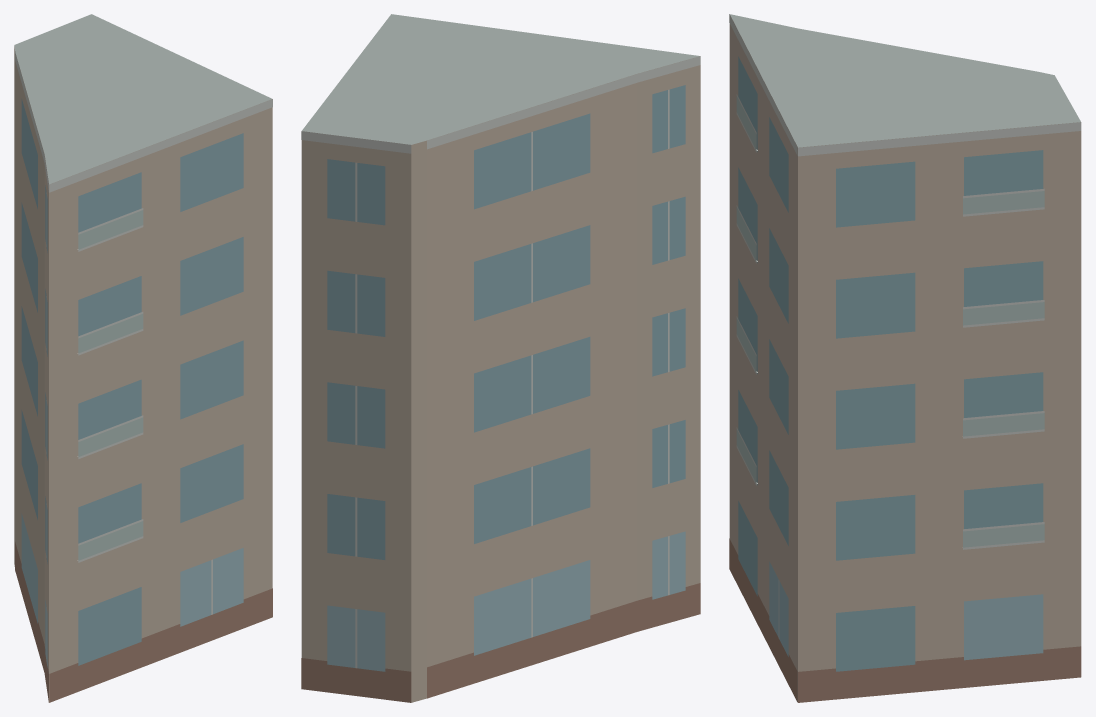
Rendered from survey-upis-32830900.glb.
The picture shows the model from 3 angles, left to right: view 1: azimuth 30°, elevation 25°; view 2: azimuth 150°, elevation 25°; view 3: azimuth 270°, elevation 25°; orthographic projection. The views are drawn at different scales.
Visible parts, largest first — view 1: survey-upis-32830900.tmp; view 2: survey-upis-32830900.tmp; view 3: survey-upis-32830900.tmp.
Part boxes in pixels (left/top/right/bottom): survey-upis-32830900.tmp: left=14, top=14, right=272, bottom=702; survey-upis-32830900.tmp: left=301, top=14, right=700, bottom=702; survey-upis-32830900.tmp: left=729, top=14, right=1081, bottom=702.
Bounding box in the file's own units: 7.88 × 15.25 × 8.76.
